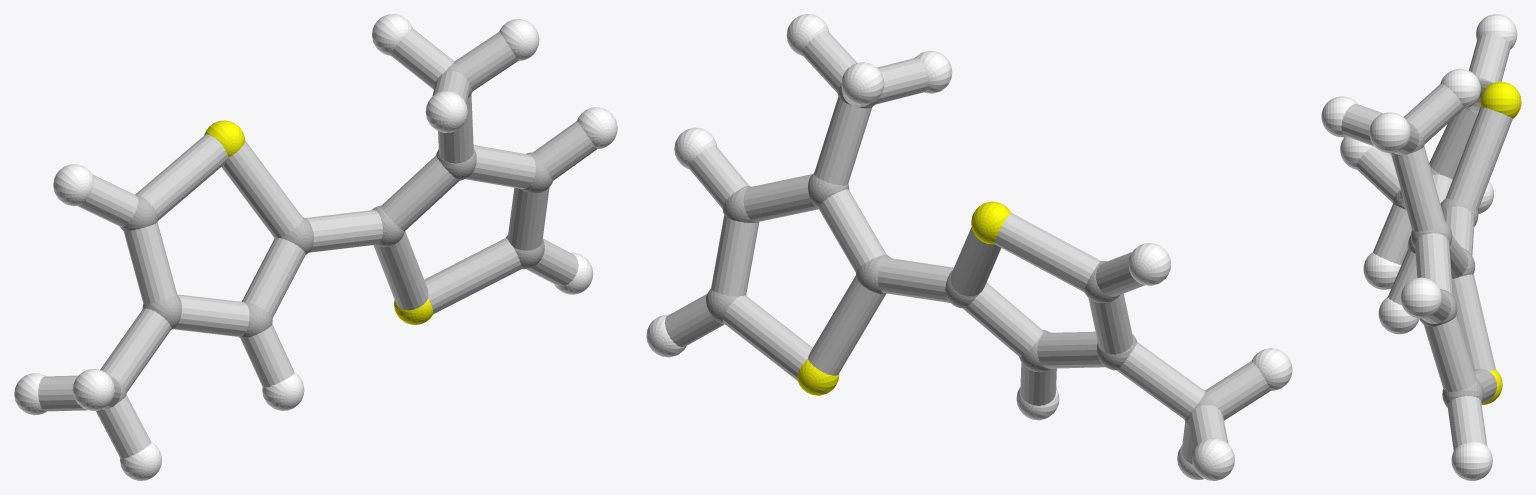
File: color.glb
3 views of the same model, side by side, from view 1: azimuth 30°, elevation 25°; view 2: azimuth 150°, elevation 25°; view 3: azimuth 270°, elevation 25° (orthographic). The views are drawn at different scales.
Visible parts, largest first — view 1: grp7965, grp3621, grp1, grp7241; view 2: grp7965, grp3621, grp1, grp7241; view 3: grp7965, grp3621, grp1, grp7241.
Boxes of the visible parts, x1,y1,x2,y2 form: grp7965: (38,28,596,458); grp3621: (14,14,617,480); grp1: (95,63,553,411); grp7241: (204,120,433,324); grp7965: (664,30,1270,464); grp3621: (646,14,1292,480); grp1: (706,84,1216,426); grp7241: (797,201,1011,395); grp7965: (1341,34,1512,450); grp3621: (1321,14,1517,480); grp1: (1390,78,1491,407); grp7241: (1480,81,1521,404).
Bounding box in the file's own units: 9.4 × 5.71 × 2.9.
